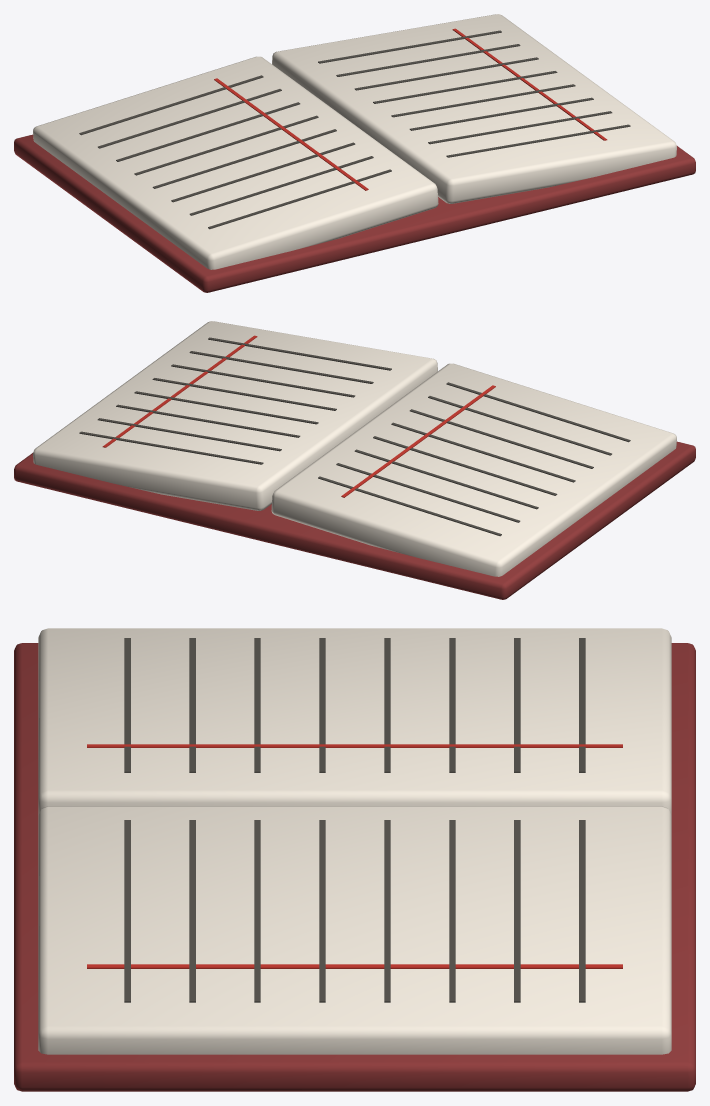
The model's file is ledger.glb.
3 views of the same model, one above another, from view 1: azimuth 30°, elevation 25°; view 2: azimuth 150°, elevation 25°; view 3: azimuth 270°, elevation 25° (orthographic). The views are drawn at different scales.
Visible parts, largest first — view 1: ledger.001; view 2: ledger.001; view 3: ledger.001.
Part boxes in pixels (x1,y1,x2,y2): ledger.001: (14,14,695,292); ledger.001: (14,321,695,599); ledger.001: (14,628,695,1091).
Bounding box in the file's own units: 0.62 × 0.0585 × 0.42.
